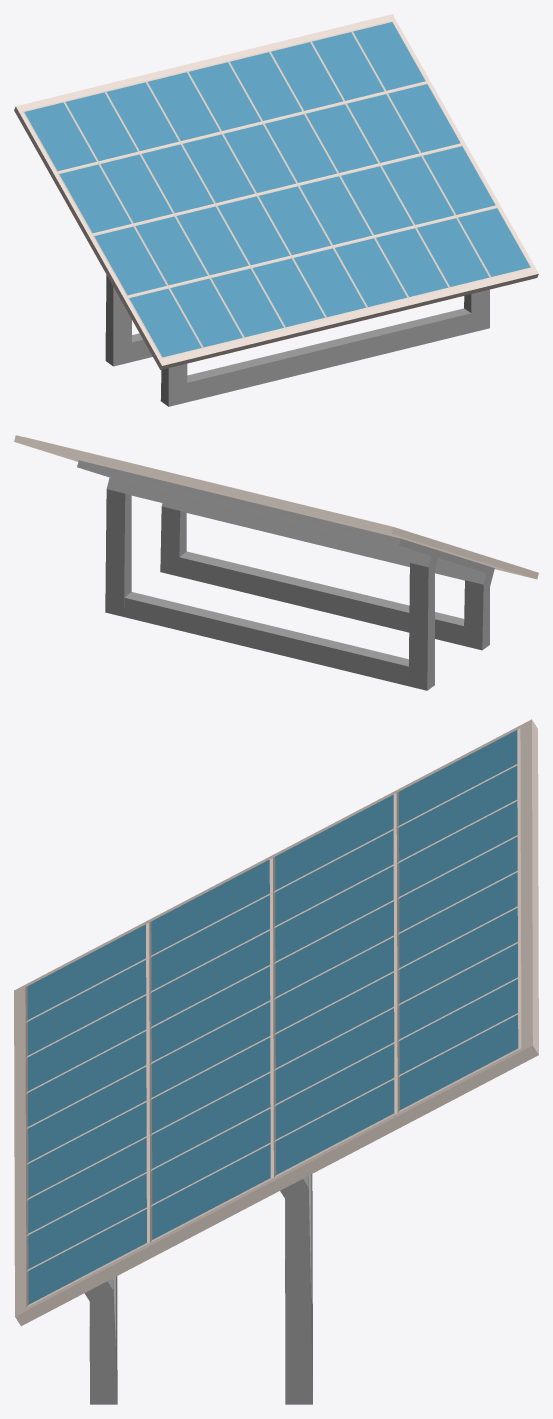
The model's file is Isl_18_Solar_Battery_1.fbx.
3 views of the same model, one above another, from view 1: azimuth 30°, elevation 25°; view 2: azimuth 150°, elevation 25°; view 3: azimuth 270°, elevation 25° (orthographic). The views are drawn at different scales.
Parts seen in each view (by area): view 1: Isl_18_Solar_Battery_1; view 2: Isl_18_Solar_Battery_1; view 3: Isl_18_Solar_Battery_1.
Part boxes in pixels (<box>): Isl_18_Solar_Battery_1: <box>14,14,538,406</box>; Isl_18_Solar_Battery_1: <box>14,435,538,690</box>; Isl_18_Solar_Battery_1: <box>14,719,538,1404</box>.
Size of the model in its own units: 292 by 199 by 160.
Materials: 1 (1 with a texture image).
